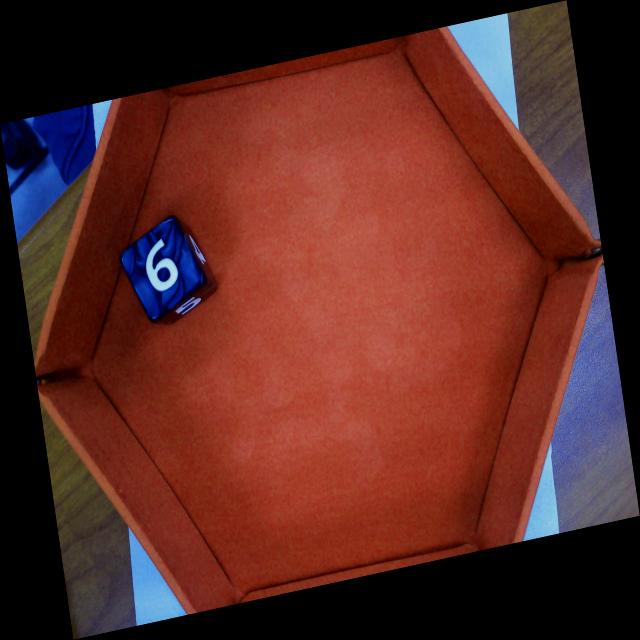dice: (119, 210, 212, 324)
